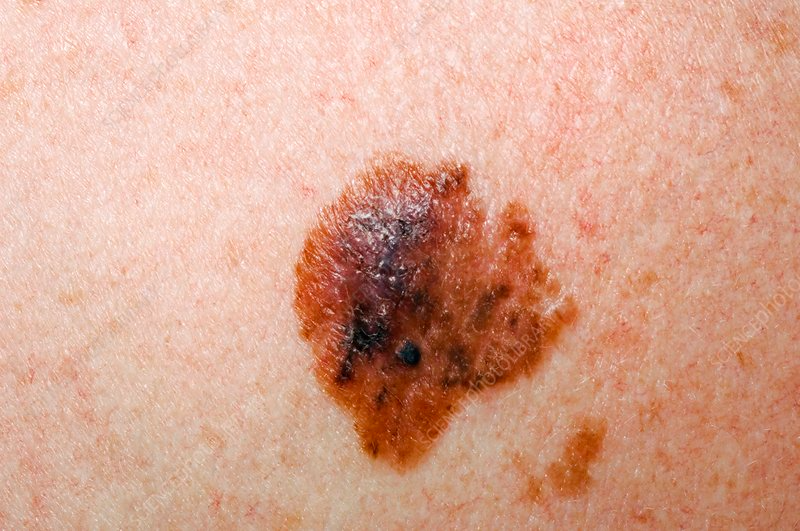Melanoma: (295, 157, 571, 466)
